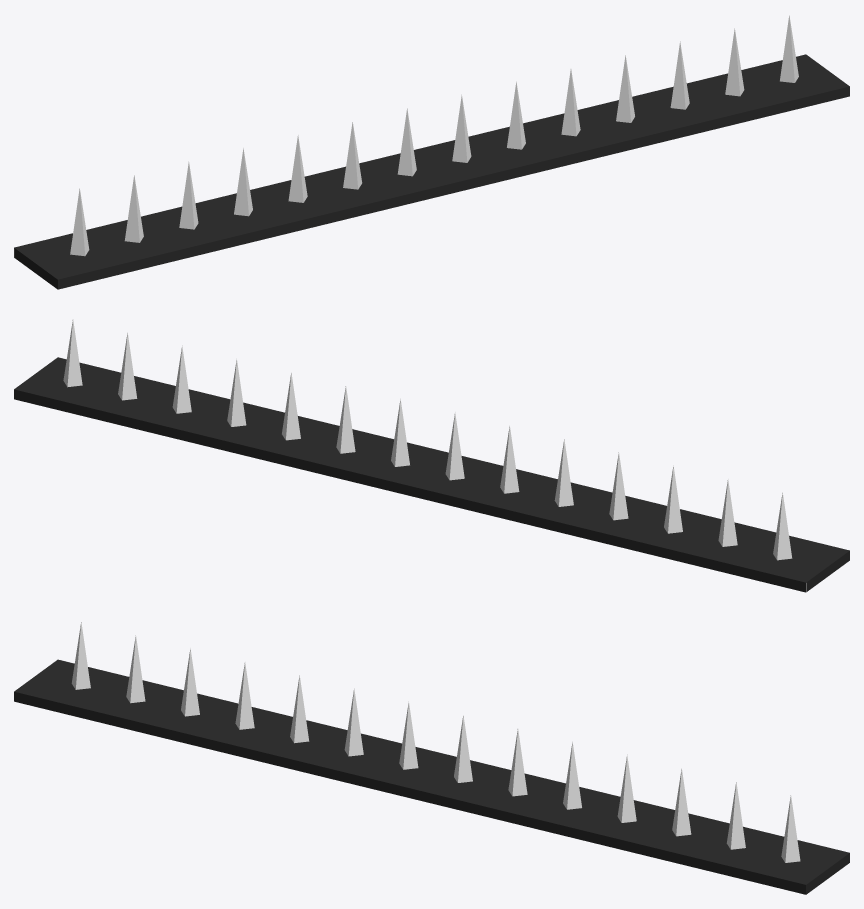
File: spikes.fbx
The picture shows the model from 3 angles, top to bottom: view 1: azimuth 30°, elevation 25°; view 2: azimuth 150°, elevation 25°; view 3: azimuth 330°, elevation 25°; orthographic projection.
Visible parts, largest first — view 1: pCone16; view 2: pCone16; view 3: pCone16.
Part boxes in pixels (x1=…): pCone16: x1=14, y1=15, x2=849, y2=289; pCone16: x1=14, y1=319, x2=849, y2=592; pCone16: x1=14, y1=622, x2=849, y2=894.
Bounding box in the file's own units: 60.52 × 5.46 × 5.81.
1 material, 1 textured.
